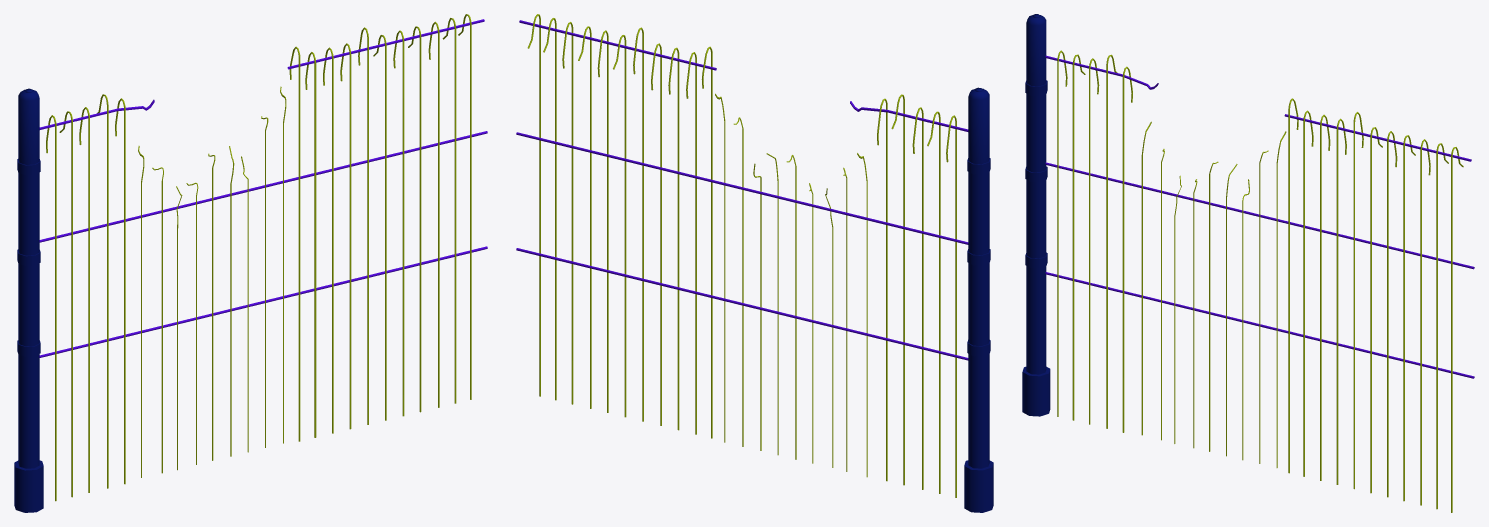
File: Fence3.FBX
3 views of the same model, side by side, from view 1: azimuth 30°, elevation 25°; view 2: azimuth 150°, elevation 25°; view 3: azimuth 330°, elevation 25° (orthographic). The views are drawn at different scales.
Visible parts, largest first — view 1: Line028; view 2: Line028; view 3: Line028.
Boxes of the visible parts, <box> form: Line028: <box>14,14,487,512</box>; Line028: <box>516,14,993,512</box>; Line028: <box>1022,14,1474,512</box>.
Bounding box in the file's own units: 194 × 164 × 12.64.
